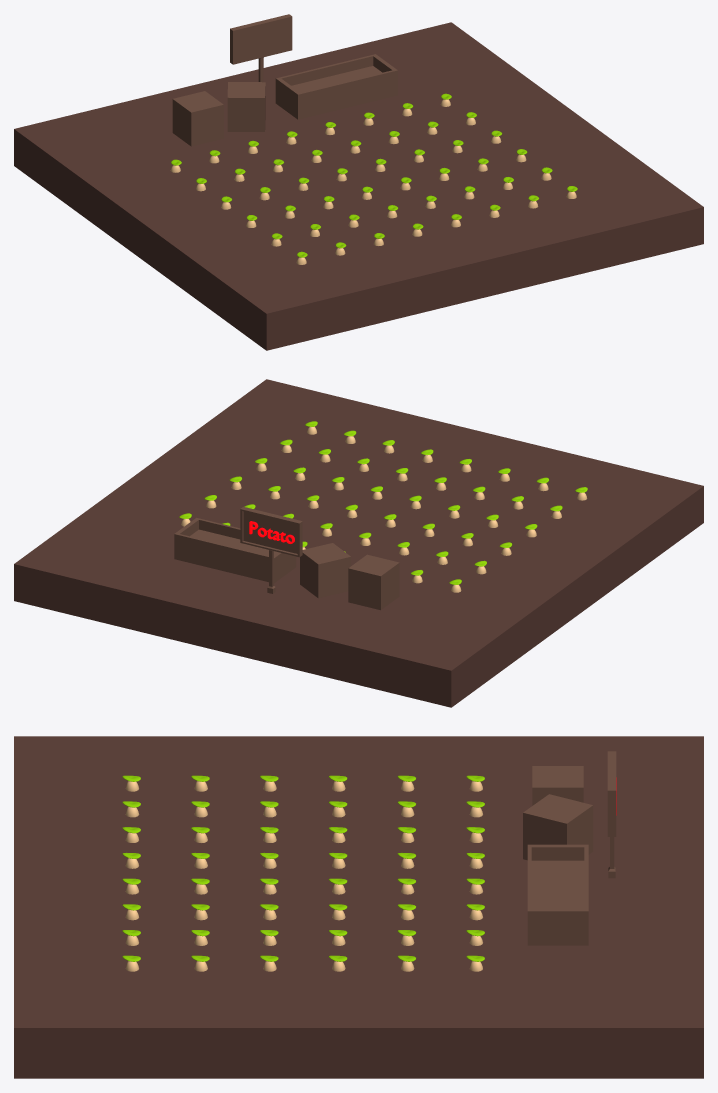
Rendered from Potato_A.fbx.
The picture shows the model from 3 angles, top to bottom: view 1: azimuth 30°, elevation 25°; view 2: azimuth 150°, elevation 25°; view 3: azimuth 270°, elevation 25°; orthographic projection. The views are drawn at different scales.
Visible parts, largest first — view 1: Cube.043, Plane.026, Cube.040, Cube.041, Cube.036, Cube.038; view 2: Cube.043, Plane.026, Cube.040, Cube.041, Cube.036, Cube.038; view 3: Cube.043, Plane.026, Cube.040, Cube.038, Cube.036, Cube.041.
Boxes of the visible parts, box(x1,y1,x2,y2) form: Cube.043: box(14, 22, 703, 350); Plane.026: box(170, 93, 577, 264); Cube.040: box(275, 54, 397, 119); Cube.041: box(230, 14, 292, 82); Cube.036: box(172, 91, 223, 146); Cube.038: box(227, 82, 265, 131); Cube.043: box(14, 379, 703, 707); Plane.026: box(179, 421, 587, 592); Cube.040: box(174, 517, 296, 583); Cube.041: box(240, 507, 302, 593); Cube.036: box(348, 554, 399, 610); Cube.038: box(300, 543, 351, 598); Cube.043: box(14, 736, 703, 1078); Plane.026: box(122, 775, 484, 971); Cube.040: box(527, 844, 588, 945); Cube.038: box(523, 794, 593, 860); Cube.036: box(532, 766, 583, 805); Cube.041: box(607, 751, 616, 878).
Bounding box in the file's own units: 2690 × 681 × 2690.
